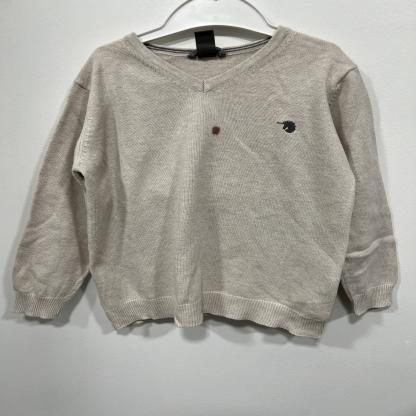stain: (209, 124, 223, 137)
